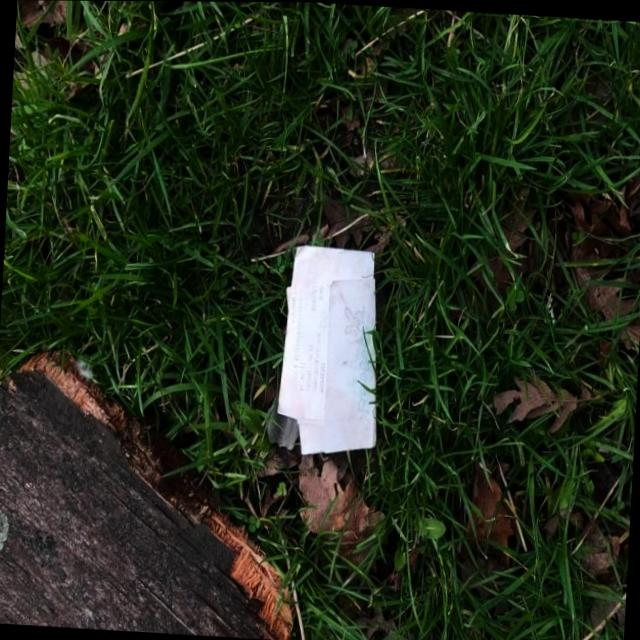Paper: (270, 237, 389, 462)
